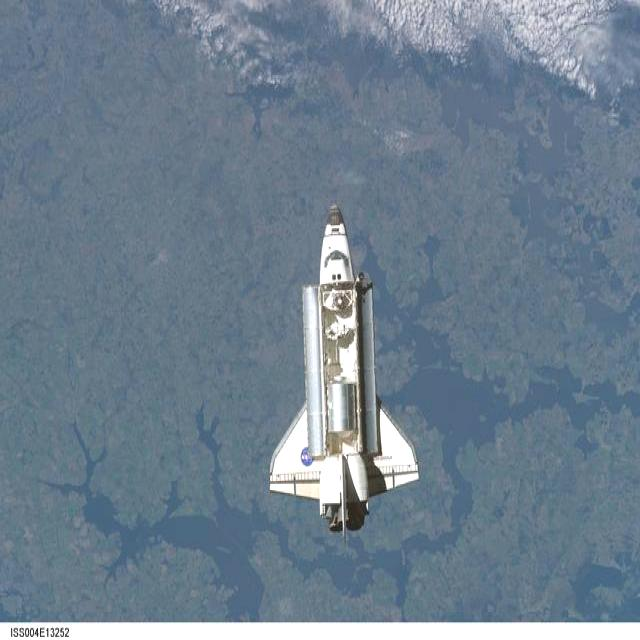medium_debris: (270, 206, 419, 532)
